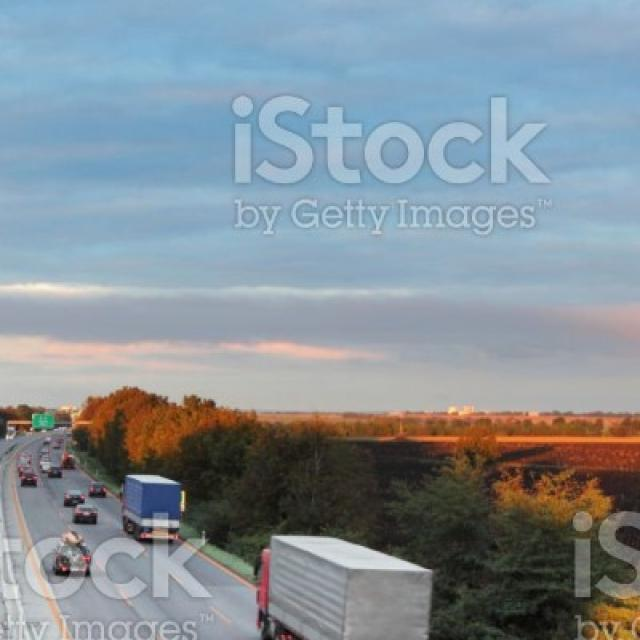car: (53, 536, 92, 576), (72, 504, 98, 525), (63, 489, 85, 507), (88, 480, 108, 499)
van: (252, 529, 433, 640), (120, 472, 182, 545)
